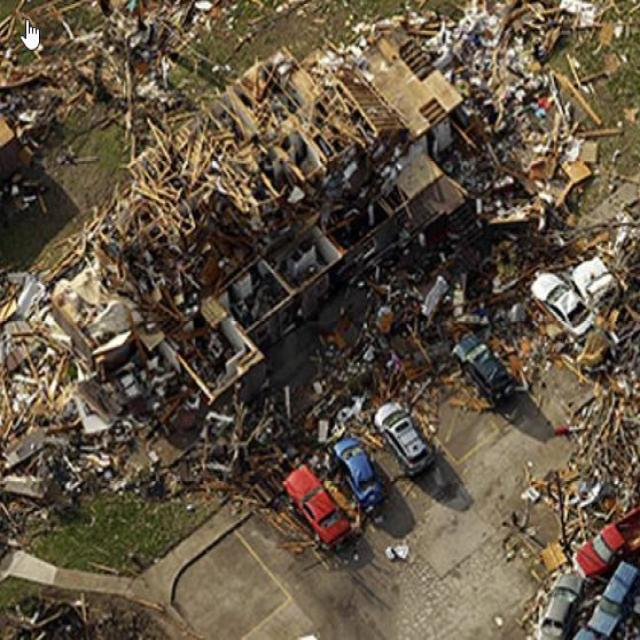collapsed_building: (96, 66, 414, 445)
